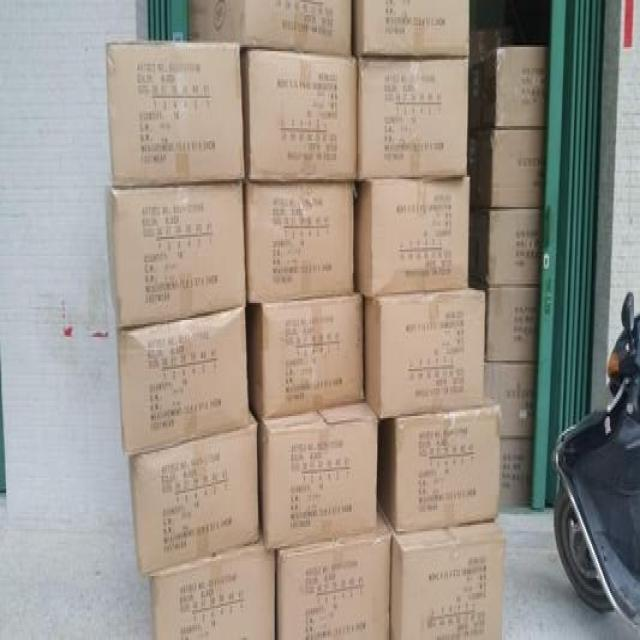box: (130, 410, 259, 578), (104, 179, 246, 331), (104, 41, 246, 188), (116, 309, 250, 457), (378, 499, 507, 640), (258, 401, 378, 550), (378, 388, 501, 533), (364, 288, 485, 420), (241, 49, 359, 183), (276, 508, 393, 640), (246, 297, 365, 420), (354, 177, 471, 299), (357, 55, 469, 181), (243, 183, 358, 305), (151, 535, 276, 640), (189, 0, 352, 55), (352, 0, 471, 58), (467, 47, 550, 128), (467, 128, 549, 209), (468, 207, 543, 286), (484, 288, 542, 363), (484, 361, 538, 439), (500, 437, 534, 503), (468, 23, 516, 66)
